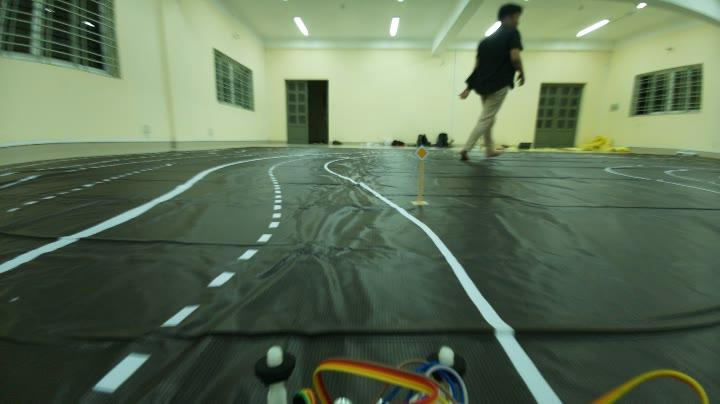priority: (410, 138, 432, 166)
